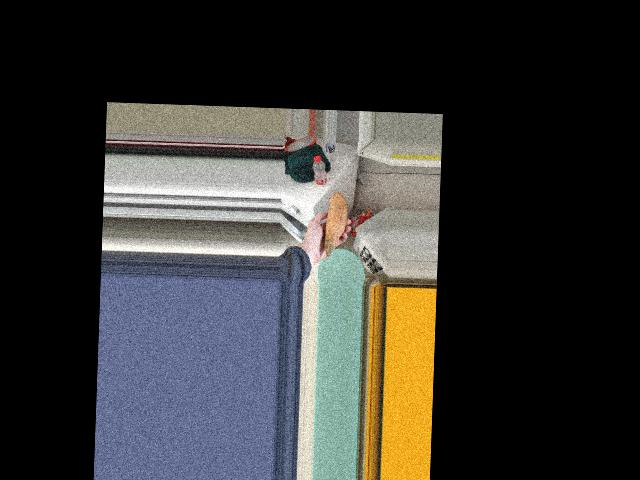sweet_potato: (322, 197, 347, 252)
